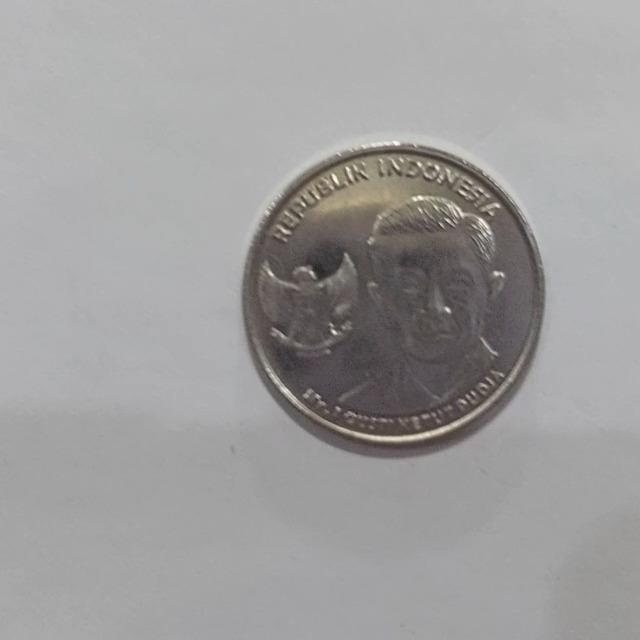Rp100: (240, 137, 547, 451)
